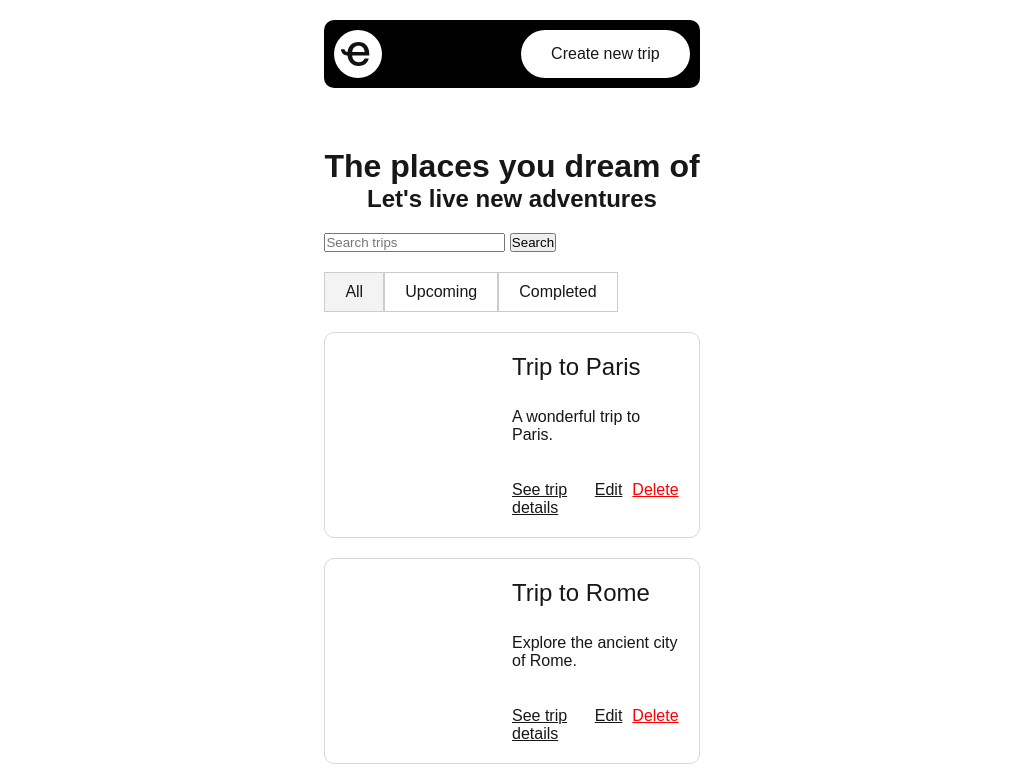
Test: Trips Component › opens the form modal when 'Create new trip' is clicked
Click the text "Create new trip" at (605, 54), box [551,45,660,63]
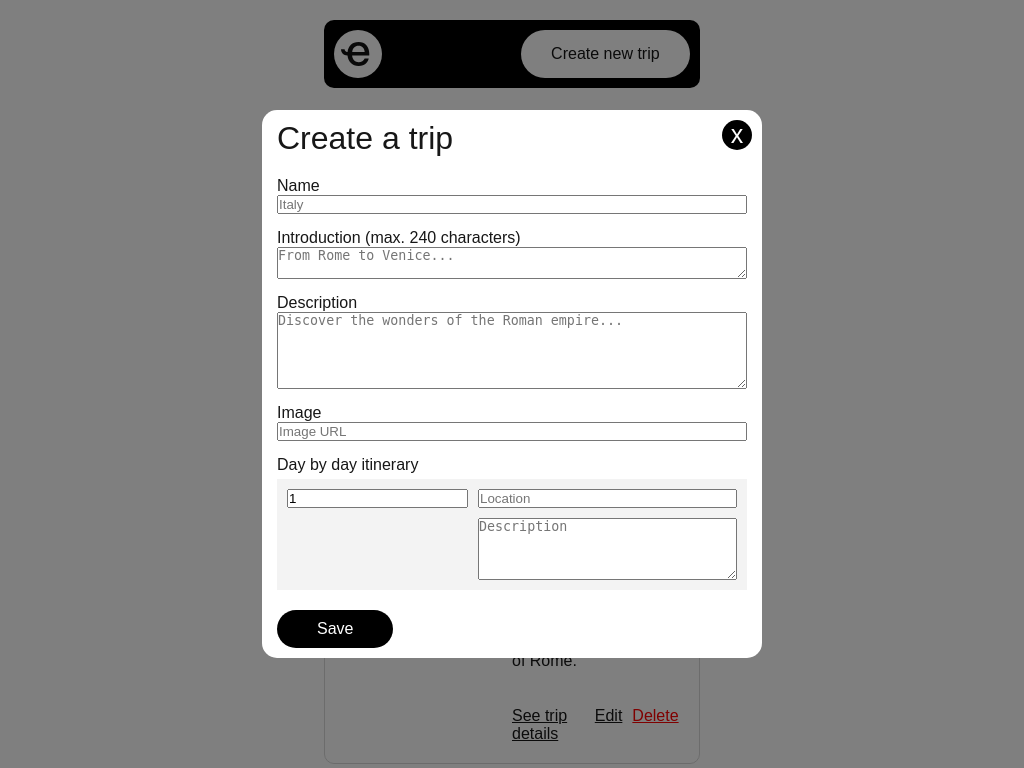
Expected: the text "Save" is shown, [277,610,394,648]
